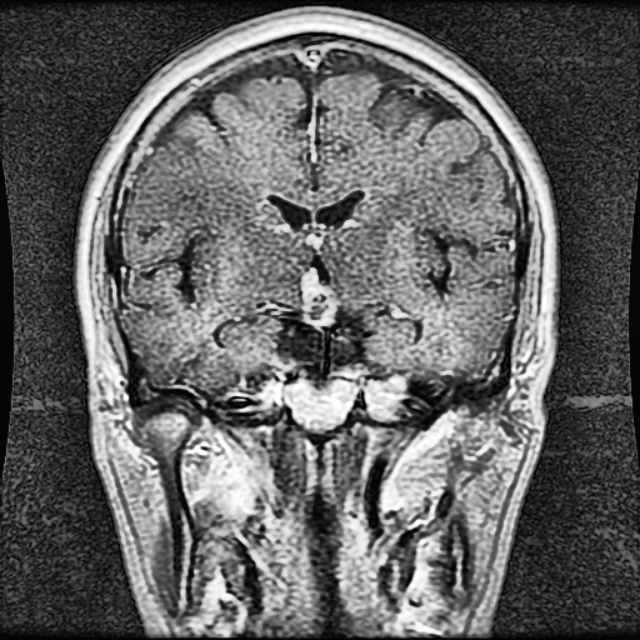Pituitary: (300, 270, 337, 320)
